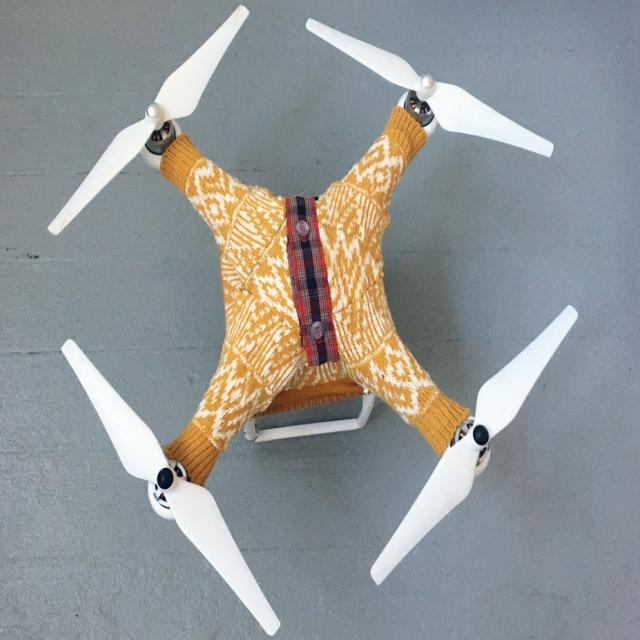drone: (26, 2, 604, 640)
